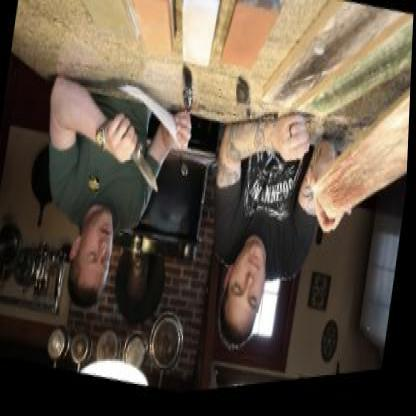knife: (110, 115, 172, 207)
